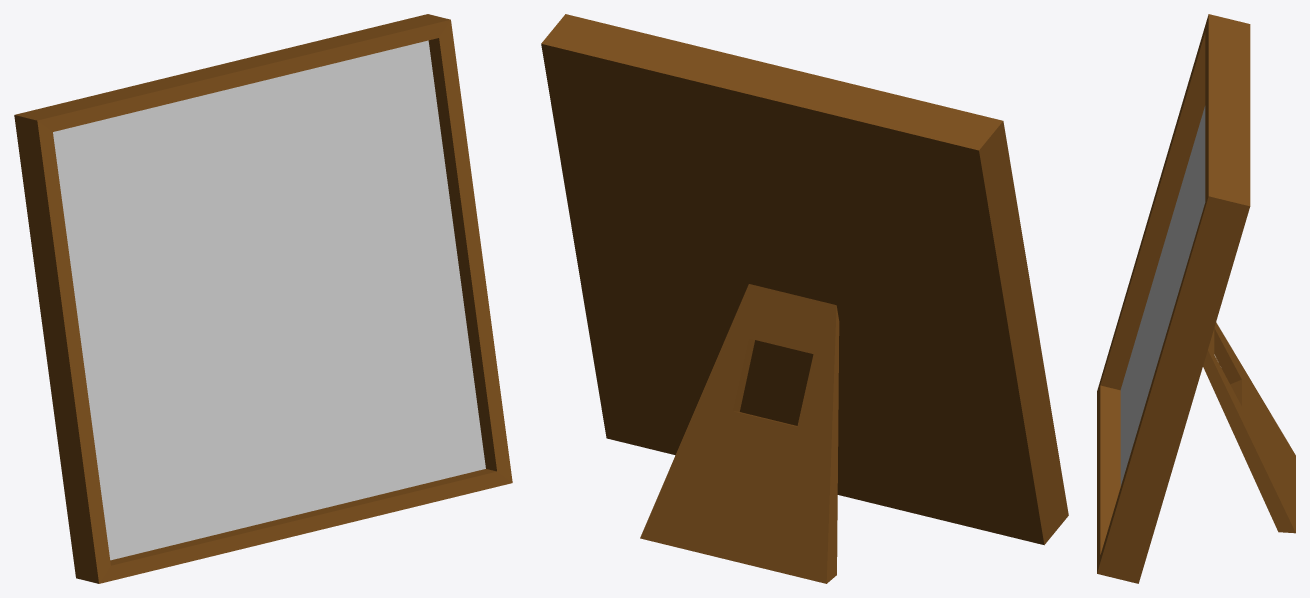
The model's file is Cadre_a_photo (1).fbx.
The picture shows the model from 3 angles, left to right: view 1: azimuth 30°, elevation 25°; view 2: azimuth 150°, elevation 25°; view 3: azimuth 270°, elevation 25°; orthographic projection. The views are drawn at different scales.
Parts seen in each view (by area): view 1: Cadre à photo; view 2: Cadre à photo; view 3: Cadre à photo.
Boxes of the visible parts, x1,y1,x2,y2 form: Cadre à photo: [14, 14, 512, 583]; Cadre à photo: [541, 14, 1068, 583]; Cadre à photo: [1097, 14, 1295, 583].
Bounding box in the file's own units: 200 × 199 × 92.26.
